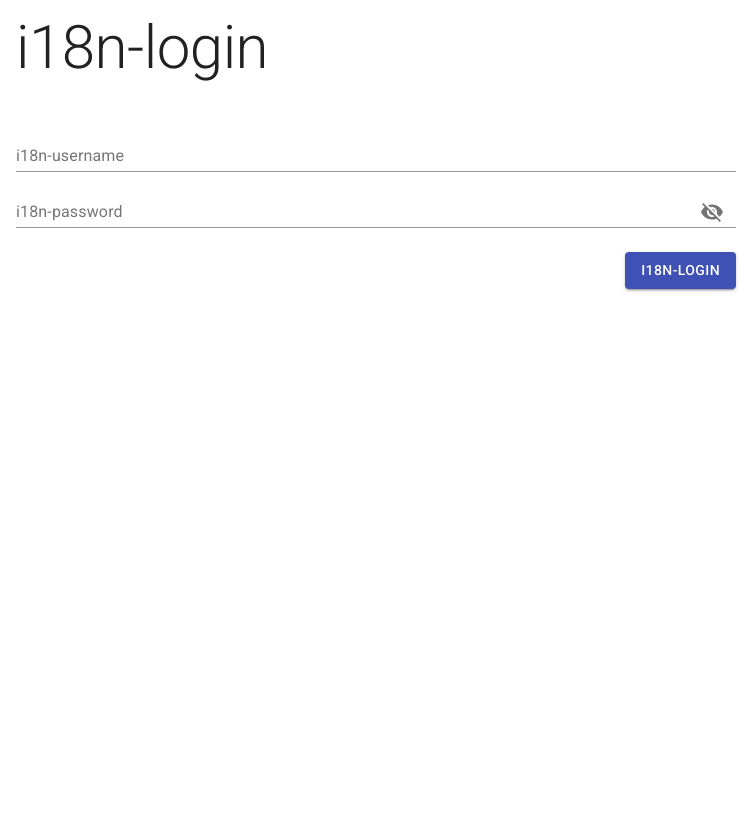
it: Login › Notifications › should display success notification if login succeed
This screenshot has width=754, height=815.
In the field labelled "i18n-username": (376, 156) [16, 140, 736, 172], type "johndoe"
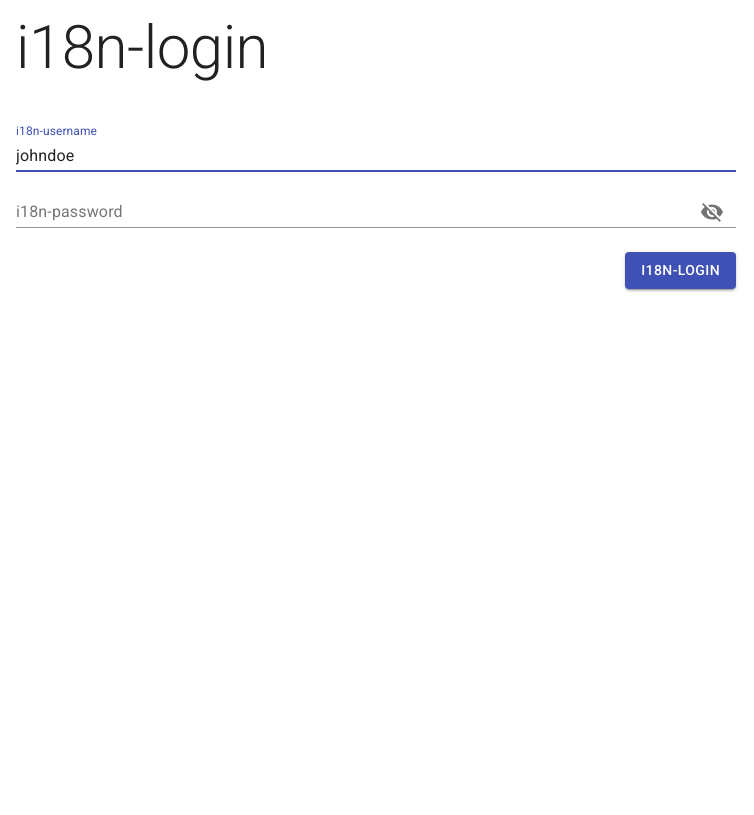
In the password field labelled "i18n-password": (348, 212) [16, 196, 680, 228], type "secret"
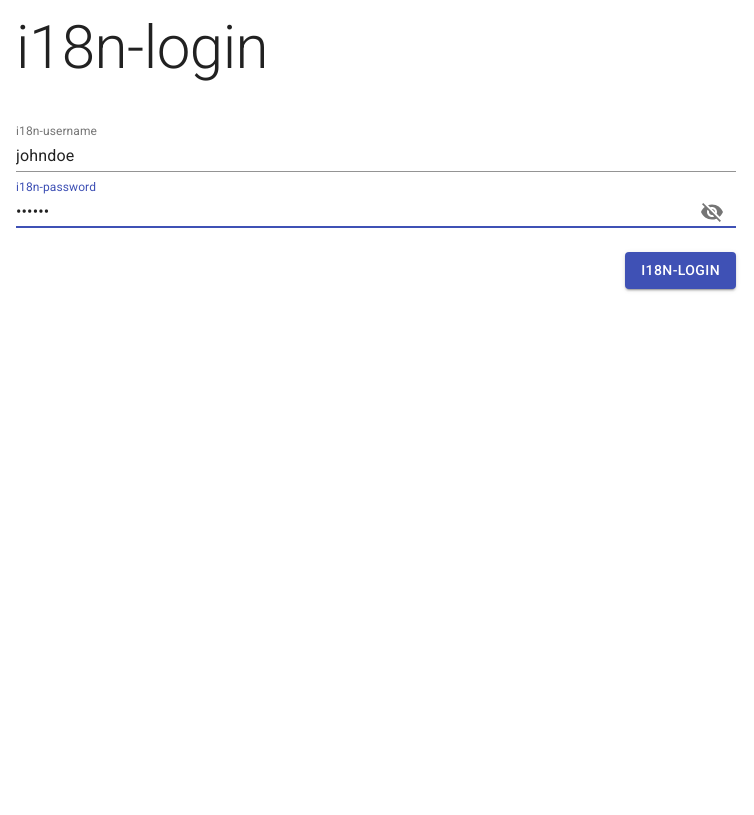
Click the button with test id "form-submit": (681, 270) [625, 252, 736, 288]
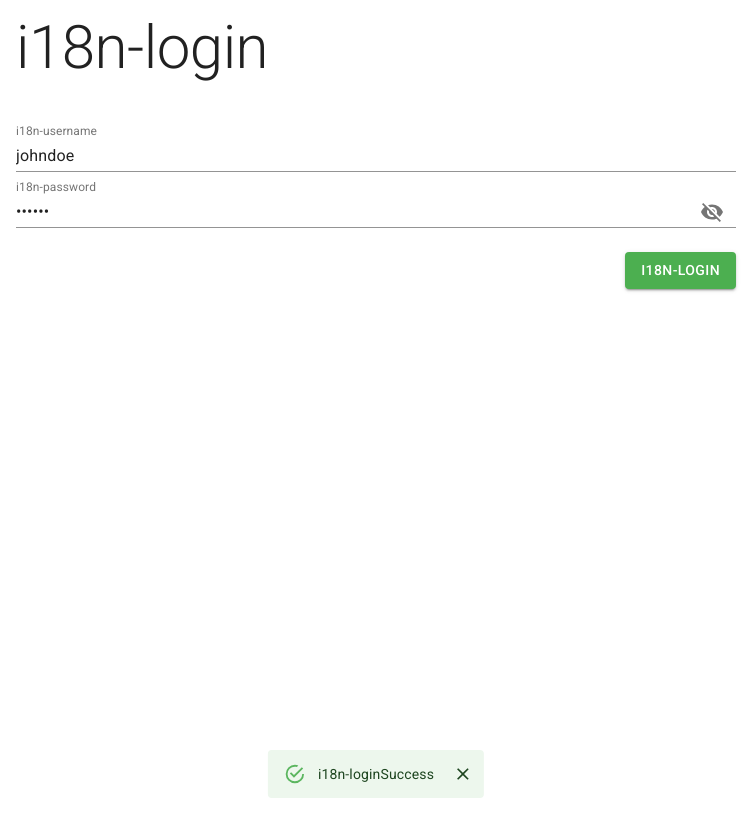
Check: the text "i18n-loginSuccess" is shown, box [318, 766, 434, 782]
Click the button named "Close": (463, 774) [450, 761, 476, 787]
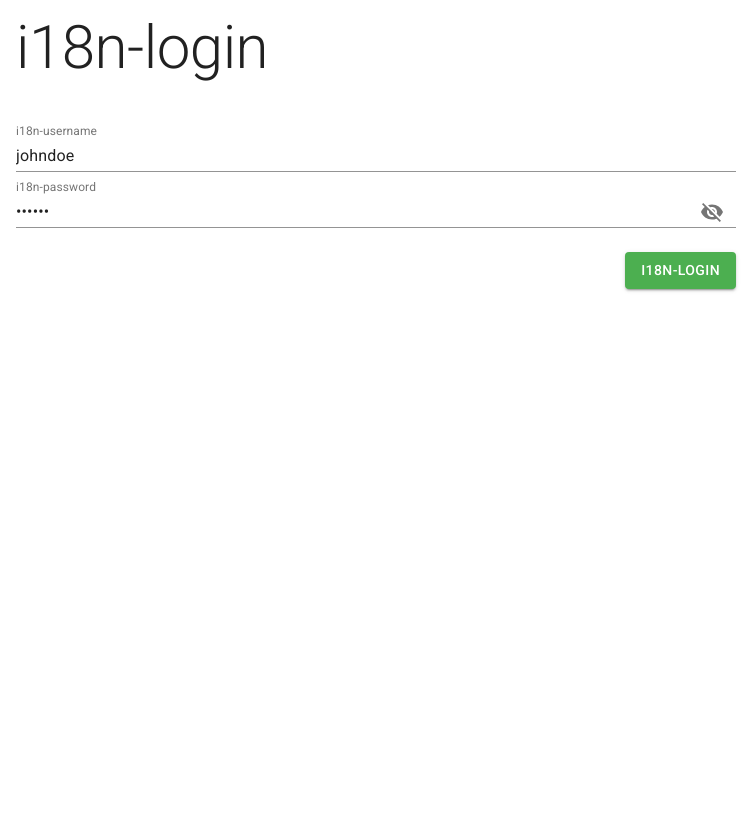
Check: the text "i18n-loginSuccess" is gone
